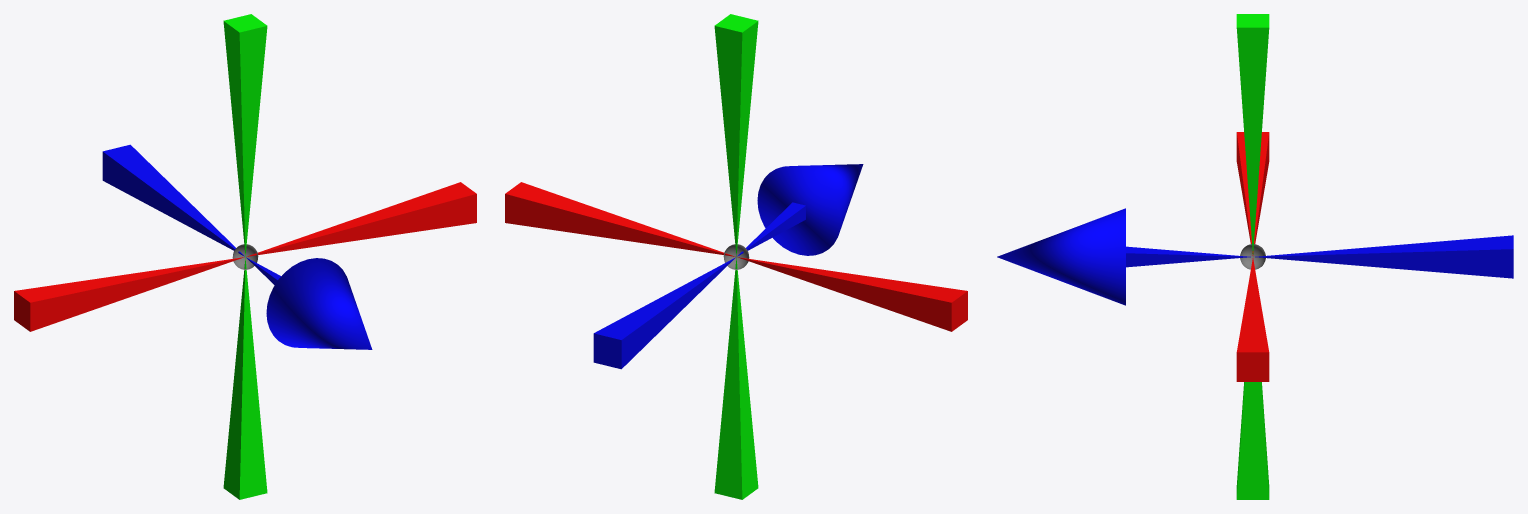
The model's file is widget3d.gltf.
The picture shows the model from 3 angles, left to right: view 1: azimuth 30°, elevation 25°; view 2: azimuth 150°, elevation 25°; view 3: azimuth 270°, elevation 25°; orthographic projection.
Parts seen in each view (by area): view 1: Widget3D; view 2: Widget3D; view 3: Widget3D.
Part boxes in pixels (x1=…): Widget3D: x1=14, y1=14, x2=476, y2=499; Widget3D: x1=505, y1=14, x2=967, y2=499; Widget3D: x1=997, y1=14, x2=1513, y2=499.
Bounding box in the file's own units: 0.32 × 0.32 × 0.3176.
Materials: 1 (1 with a texture image).
